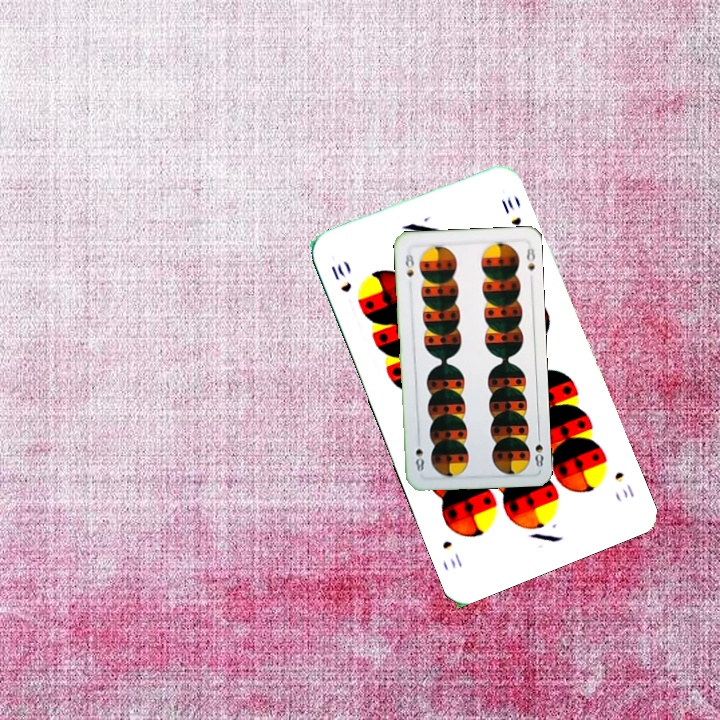S10: (327, 259, 354, 295), (610, 467, 637, 502)
S8: (531, 429, 546, 470), (401, 246, 417, 280)
